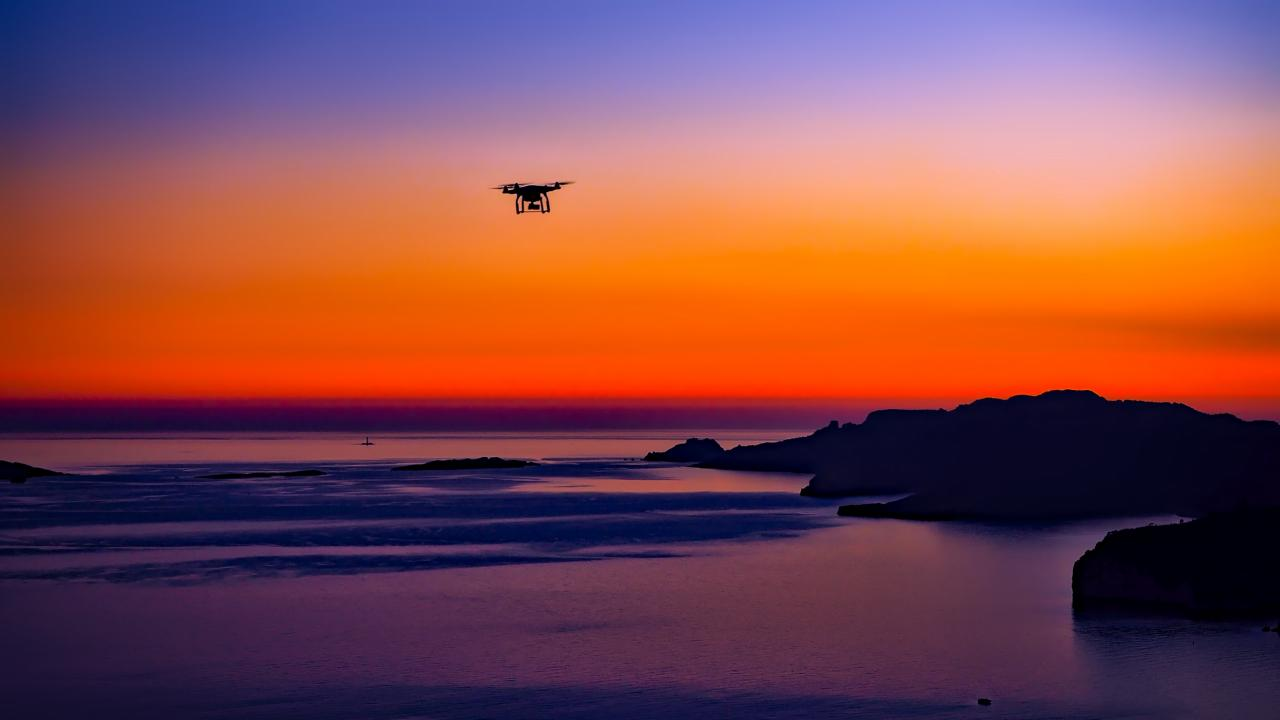Drone: (485, 169, 585, 222)
